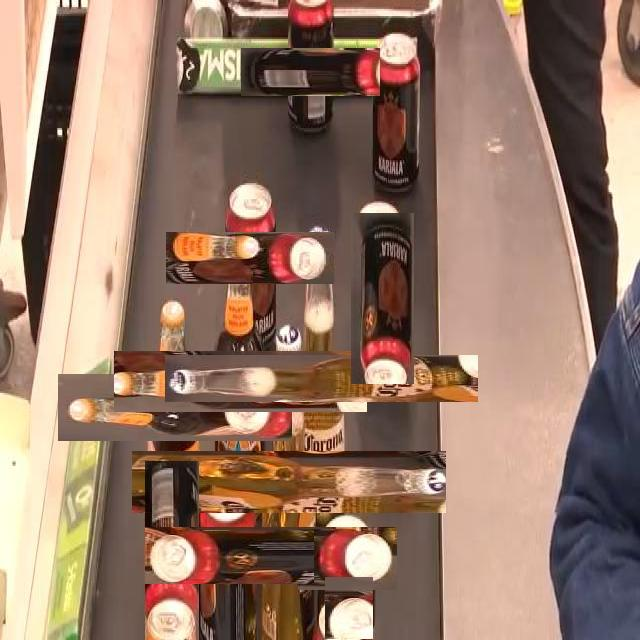beverage: (194, 388, 383, 577), (231, 288, 412, 469), (162, 303, 320, 460), (100, 332, 250, 482), (173, 499, 287, 612), (194, 203, 305, 314), (350, 212, 414, 384), (144, 460, 199, 640), (263, 25, 357, 119), (370, 31, 420, 200), (307, 518, 388, 600), (317, 584, 381, 640)
